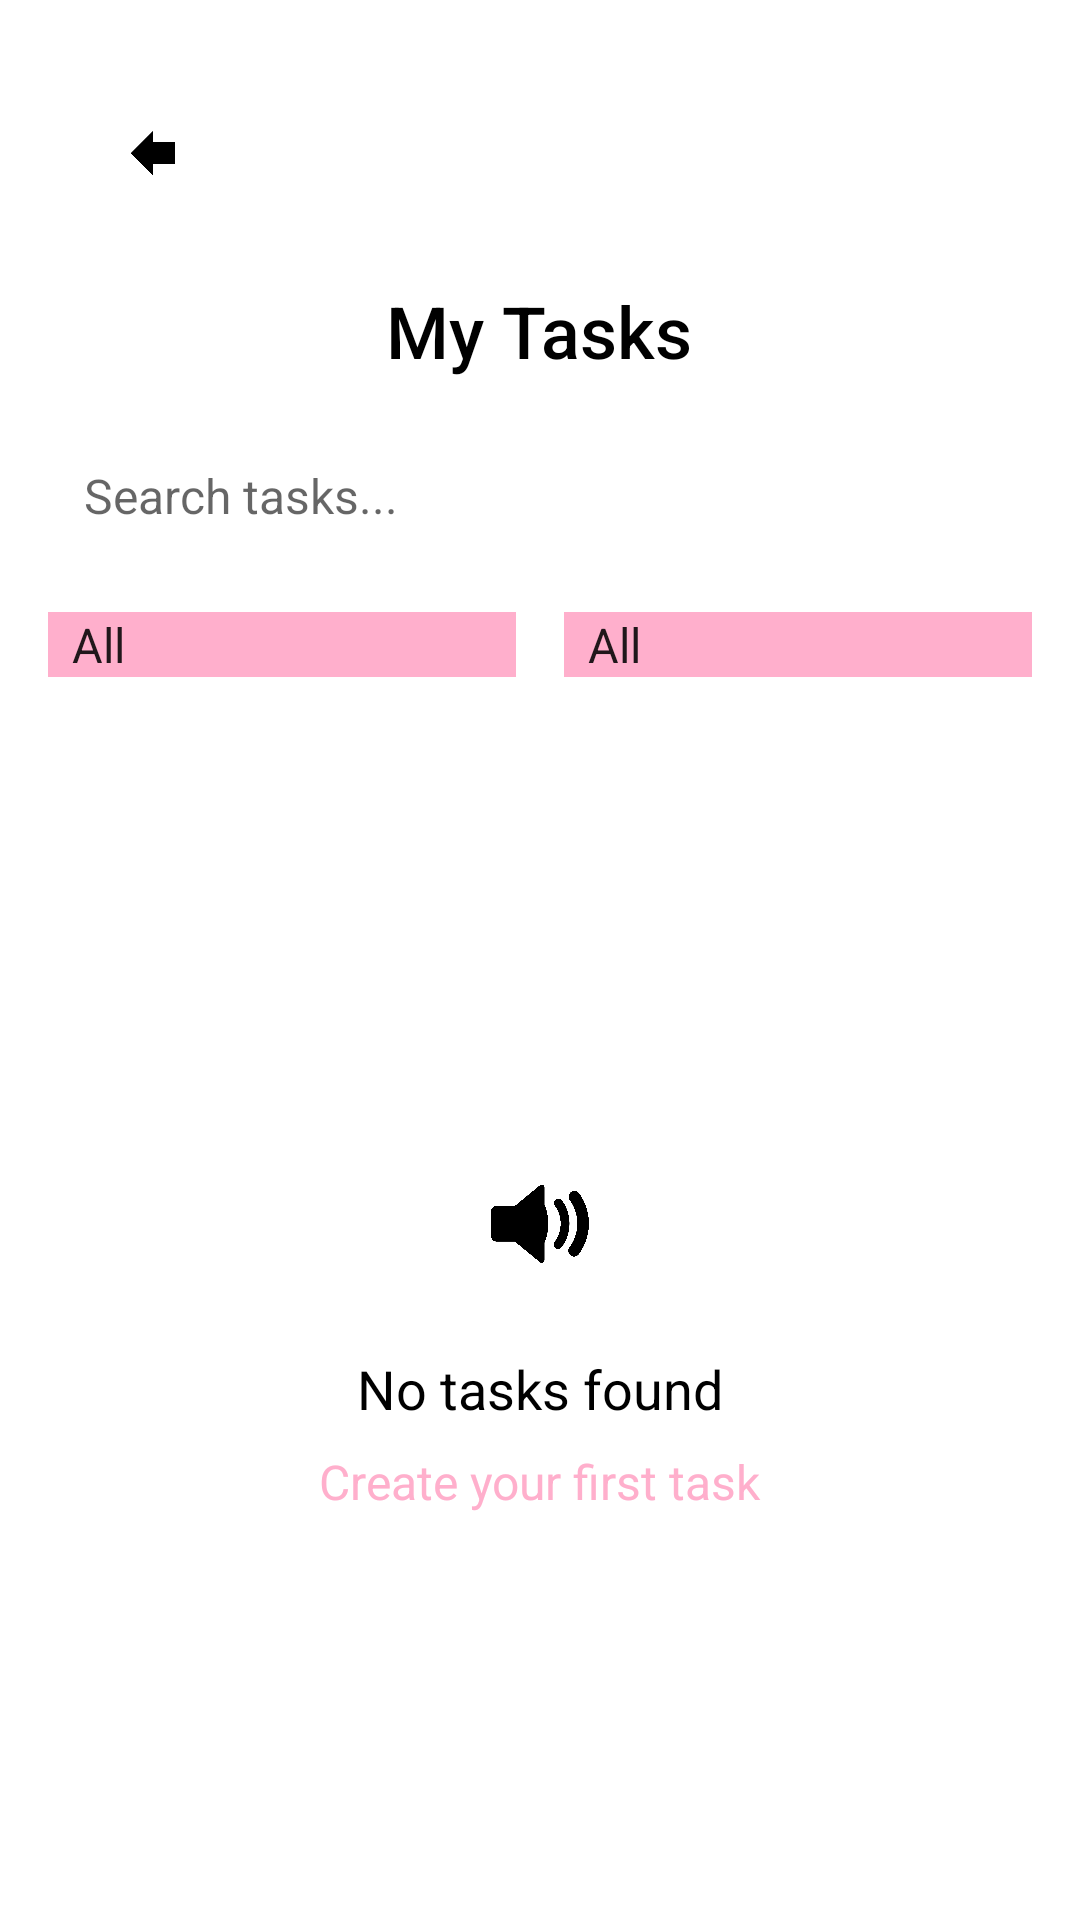

Icon bounding boxes for this 1080*1920 phone screenshot, format box(x1, y1, x2, y2):
Back button: box(131, 131, 175, 175)
